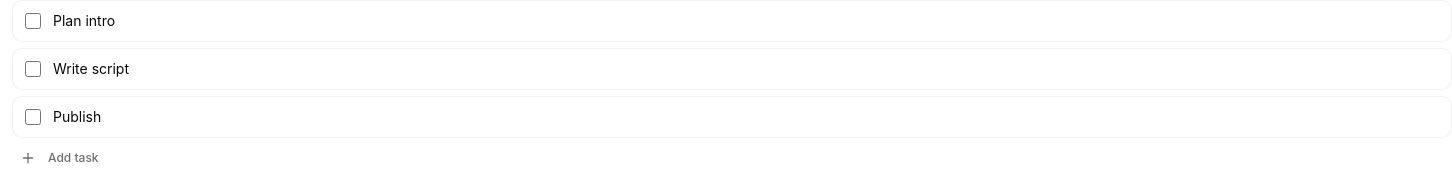
Scenario: TodayChecklistEditor › deletes the originally selected task after rows reorder
Click the 1st text box.
click(744, 21)  # box [49,9,1439,33]
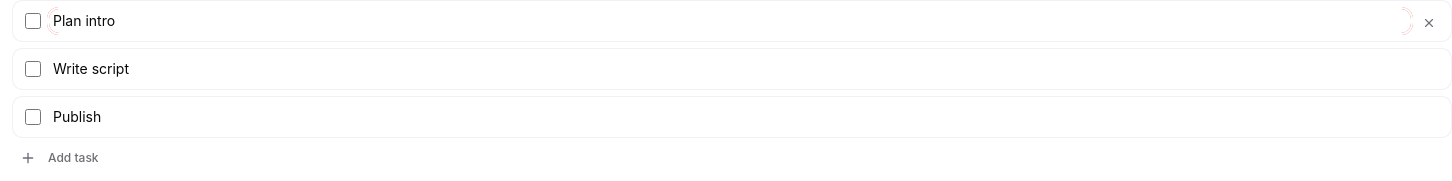
Click the button named "Delete task 1".
click(1429, 23)  # box [1419,13,1439,33]
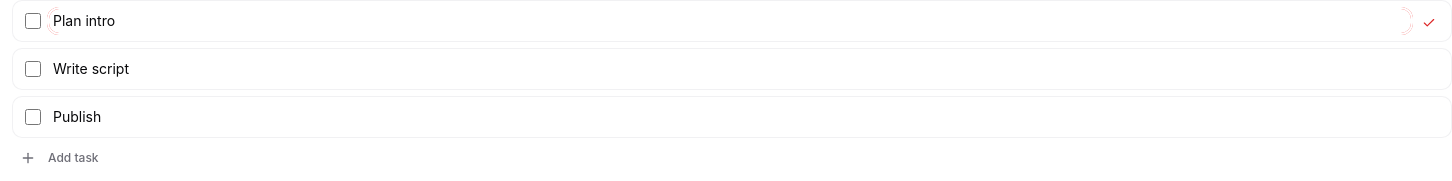
Click the checkbox named "Toggle task 1".
click(33, 21)  # box [25,13,41,29]
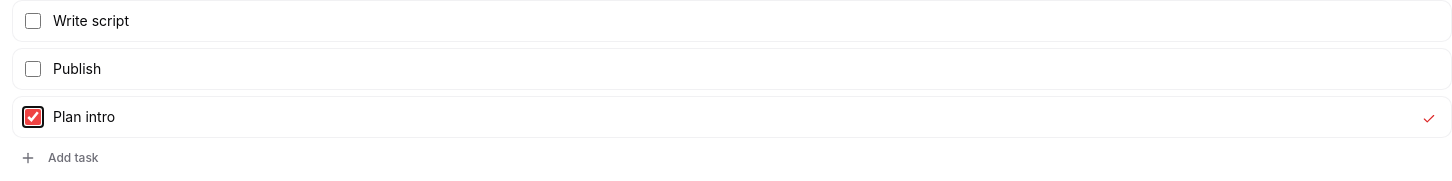
Click the button named "Confirm delete task 3".
click(1429, 119)  # box [1419,109,1439,129]
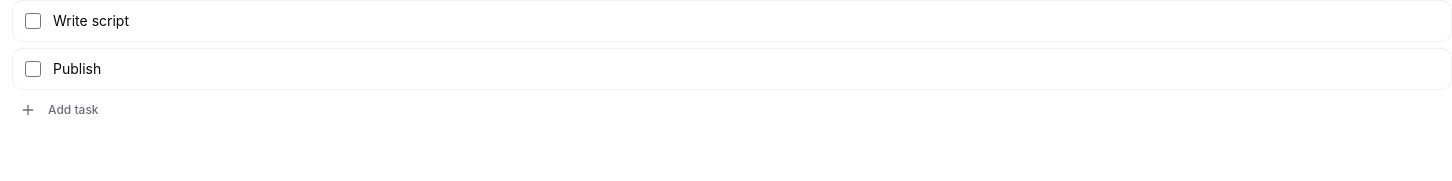
Expected: the 1st text box holds "Write script", [49,9,1439,33]
Expected: the number of text boxes is 2, [49,9,1439,33]; [49,57,1439,81]
